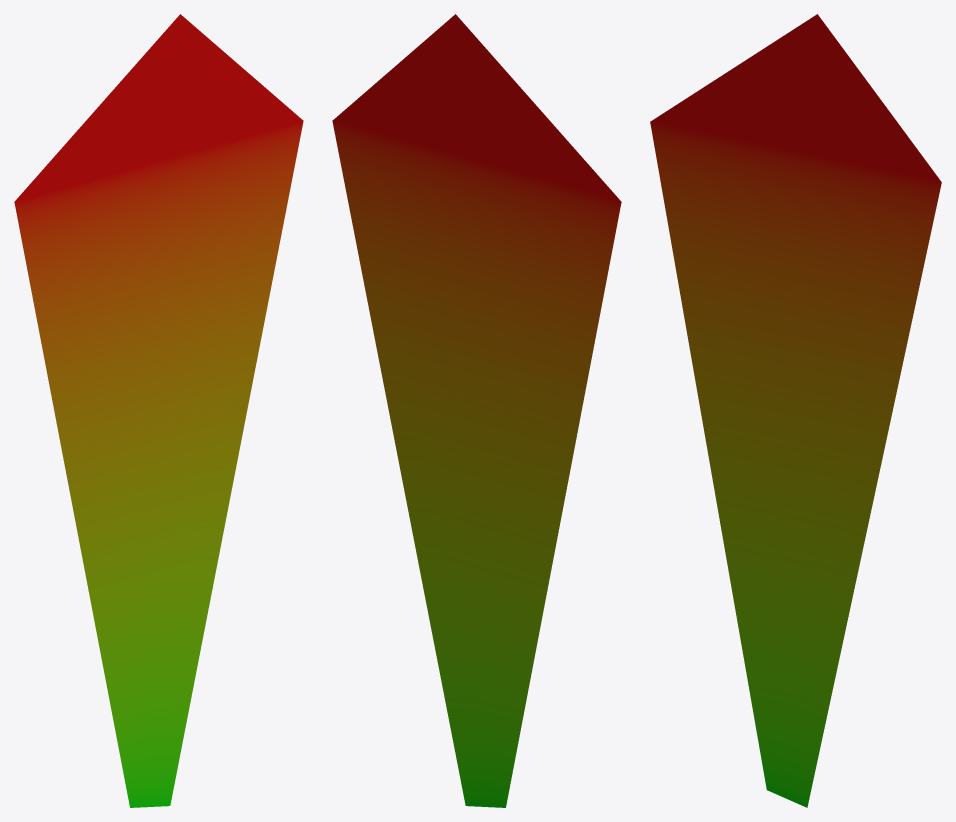
Rendered from Sea Wheatgrass_LOD3_Var12_ui2oagjia.fbx.
3 views of the same model, side by side, from view 1: azimuth 30°, elevation 25°; view 2: azimuth 150°, elevation 25°; view 3: azimuth 330°, elevation 25° (orthographic).
Parts seen in each view (by area): view 1: _xp4y_Var12_LOD3; view 2: _xp4y_Var12_LOD3; view 3: _xp4y_Var12_LOD3.
Part boxes in pixels (x1,y1,x2,y2): _xp4y_Var12_LOD3: (14, 14, 303, 807); _xp4y_Var12_LOD3: (332, 14, 621, 807); _xp4y_Var12_LOD3: (650, 14, 941, 807).
Bounding box in the file's own units: 16.67 × 43.49 × 1.9e-06.
